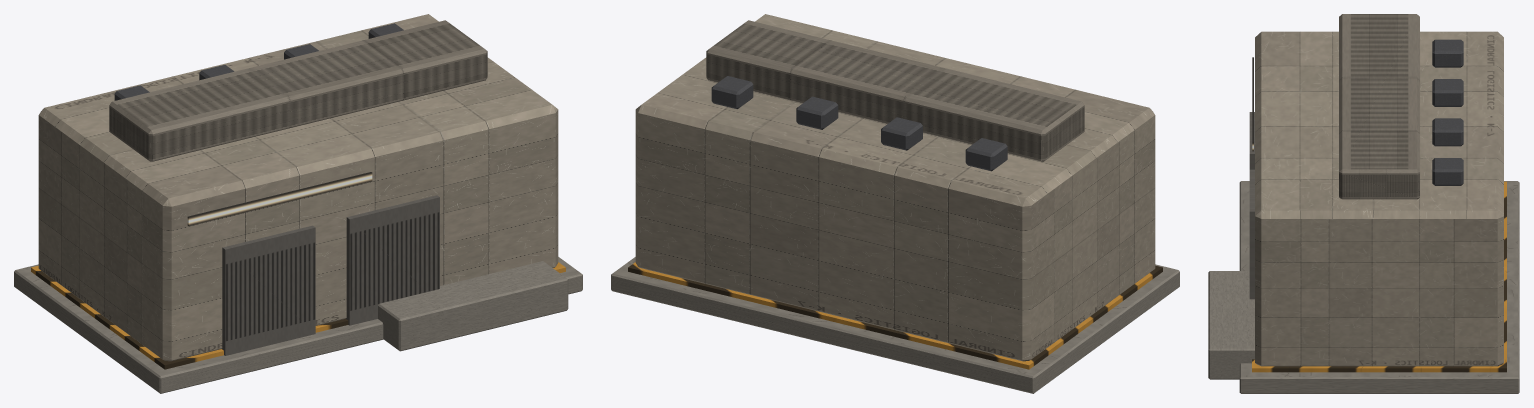
File: warehouse.obj
The picture shows the model from 3 angles, left to right: view 1: azimuth 30°, elevation 25°; view 2: azimuth 150°, elevation 25°; view 3: azimuth 270°, elevation 25°; orthographic projection. The views are drawn at different scales.
Visible parts, largest first — view 1: warehouse; view 2: warehouse; view 3: warehouse.
Boxes of the visible parts, box(x1,y1,x2,y2) form: warehouse: box(14, 14, 582, 393); warehouse: box(611, 14, 1179, 393); warehouse: box(1208, 14, 1519, 393).
Size of the model in its own units: 15 by 7.25 by 10.
1 material, 1 textured.
